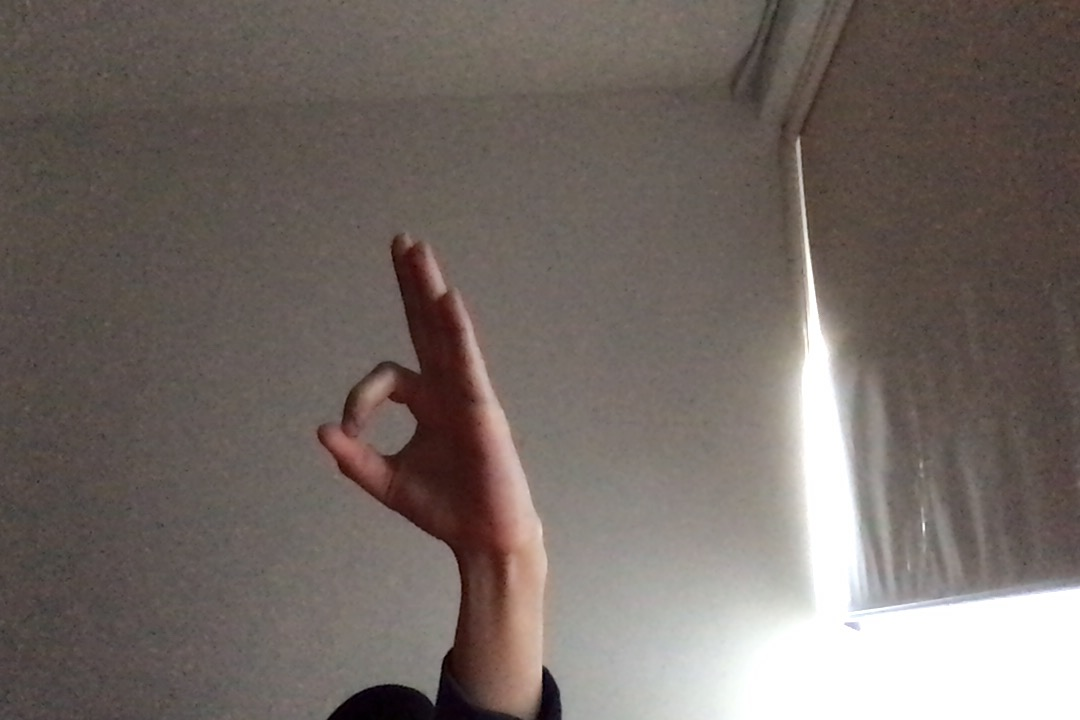oksign: (313, 230, 561, 560)
